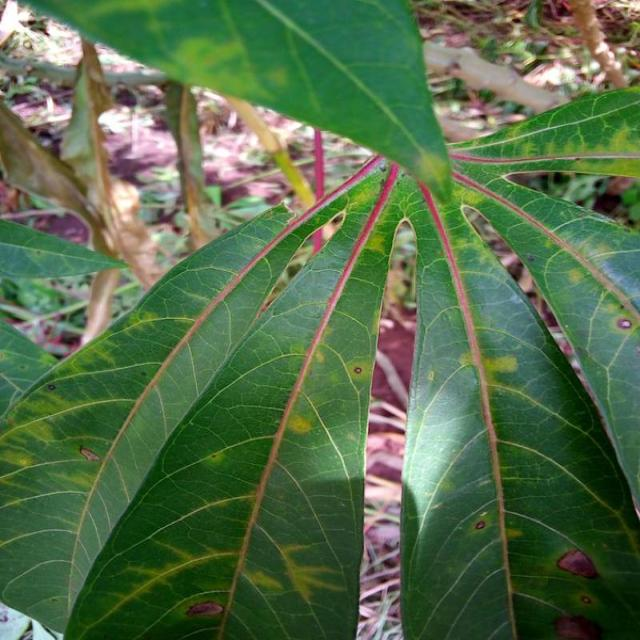cassava leaf: (0, 2, 638, 638), (1, 156, 402, 638), (398, 165, 638, 638), (22, 0, 454, 203)
